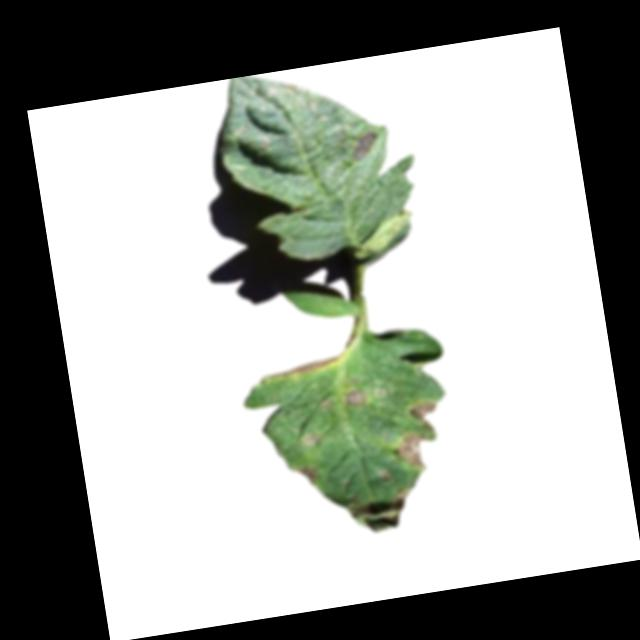Early_blight: (343, 488, 413, 537), (264, 352, 345, 379), (390, 429, 432, 473), (408, 397, 441, 433), (350, 128, 382, 161), (295, 463, 318, 487), (342, 386, 366, 407)
